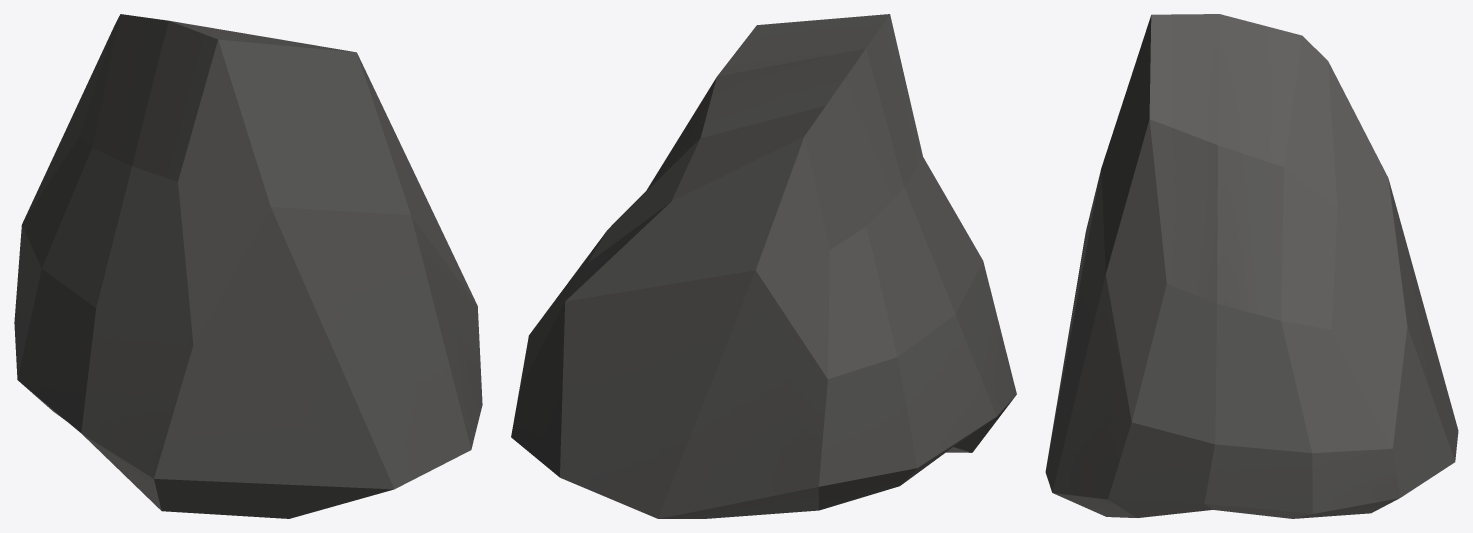
File: Rock_2.fbx
The picture shows the model from 3 angles, left to right: view 1: azimuth 30°, elevation 25°; view 2: azimuth 150°, elevation 25°; view 3: azimuth 270°, elevation 25°; orthographic projection. The views are drawn at different scales.
Visible parts, largest first — view 1: Rock_2; view 2: Rock_2; view 3: Rock_2.
Part boxes in pixels (x1=…): Rock_2: x1=14, y1=14, x2=482, y2=518; Rock_2: x1=511, y1=14, x2=1016, y2=518; Rock_2: x1=1045, y1=14, x2=1458, y2=518.
Size of the model in its own units: 244 by 264 by 227.
1 material, 1 textured.
